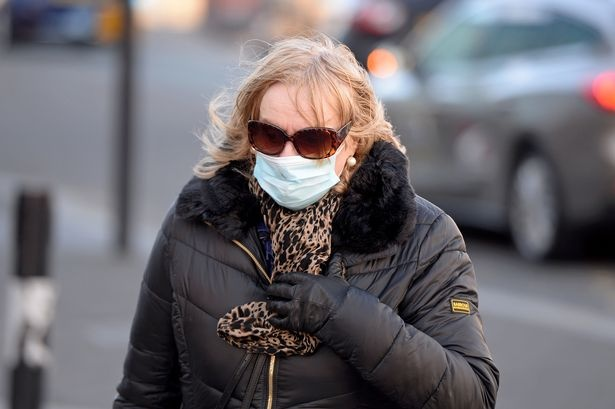with_mask: (242, 82, 355, 209)
